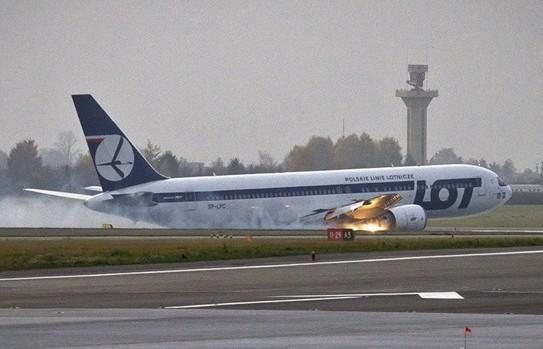airplane: (18, 93, 516, 239)
